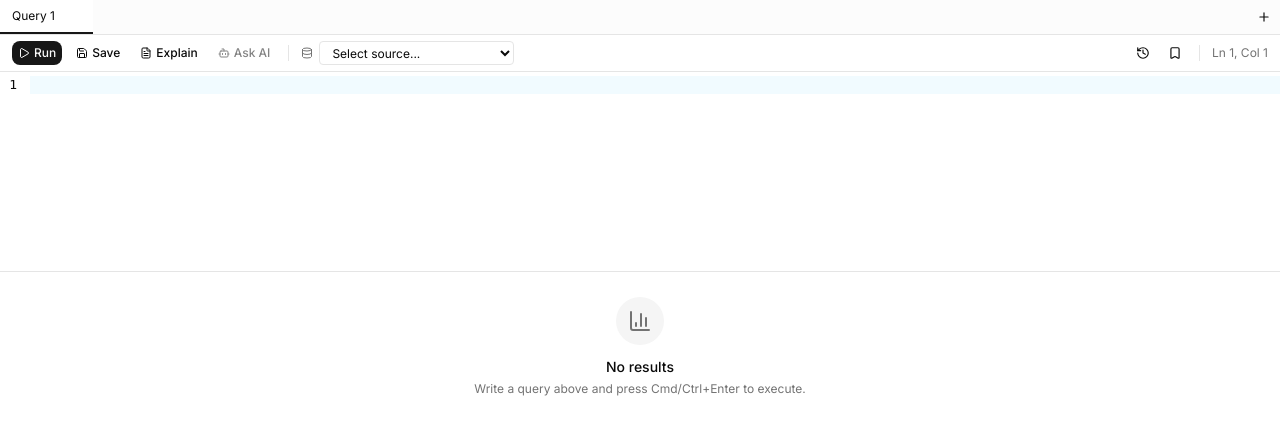
Scenario: SqlEditorPage › opens history panel when toggle is clicked
Click the button with test id "toggle-history" at (1143, 53), box [1131,41,1155,65]
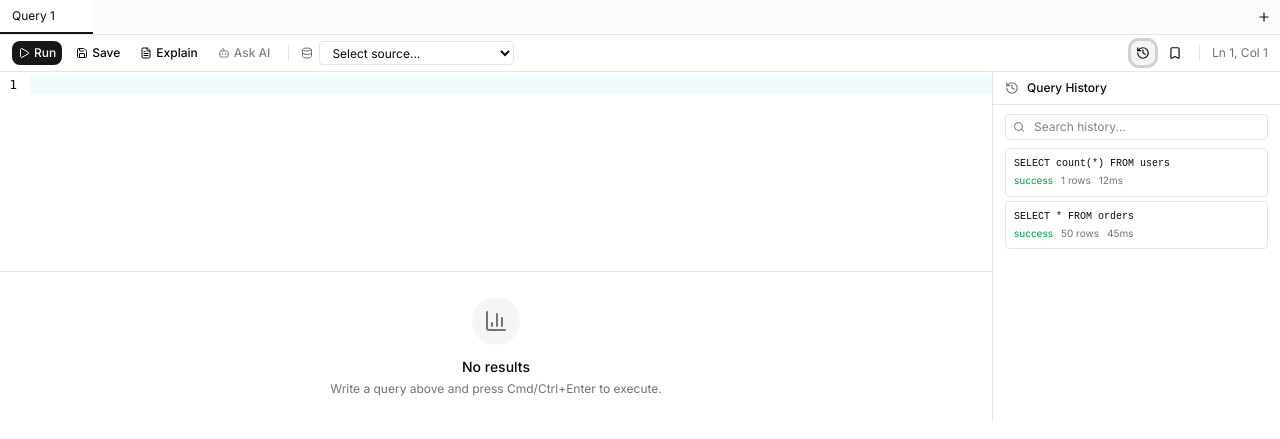
expect the element with test id "history-panel" is shown: met, box [993,72,1279,249]
expect the field with test id "history-search" is shown: met, box [1005,114,1268,140]
expect the button with test id "history-entry-0" is shown: met, box [1005,148,1268,197]
